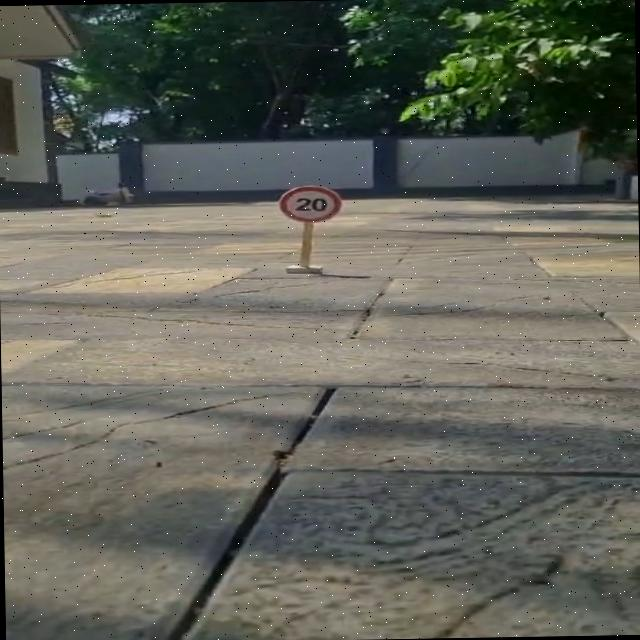Speed20: (266, 180, 352, 227)
